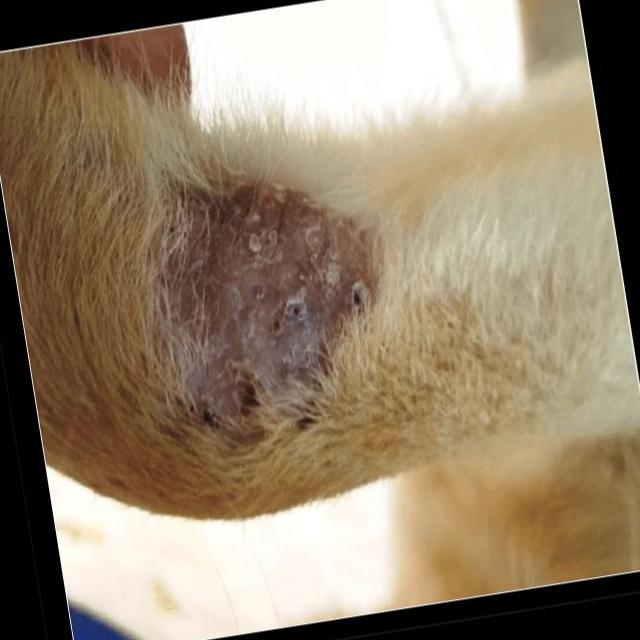allergic dermatitis: (138, 175, 368, 425)
